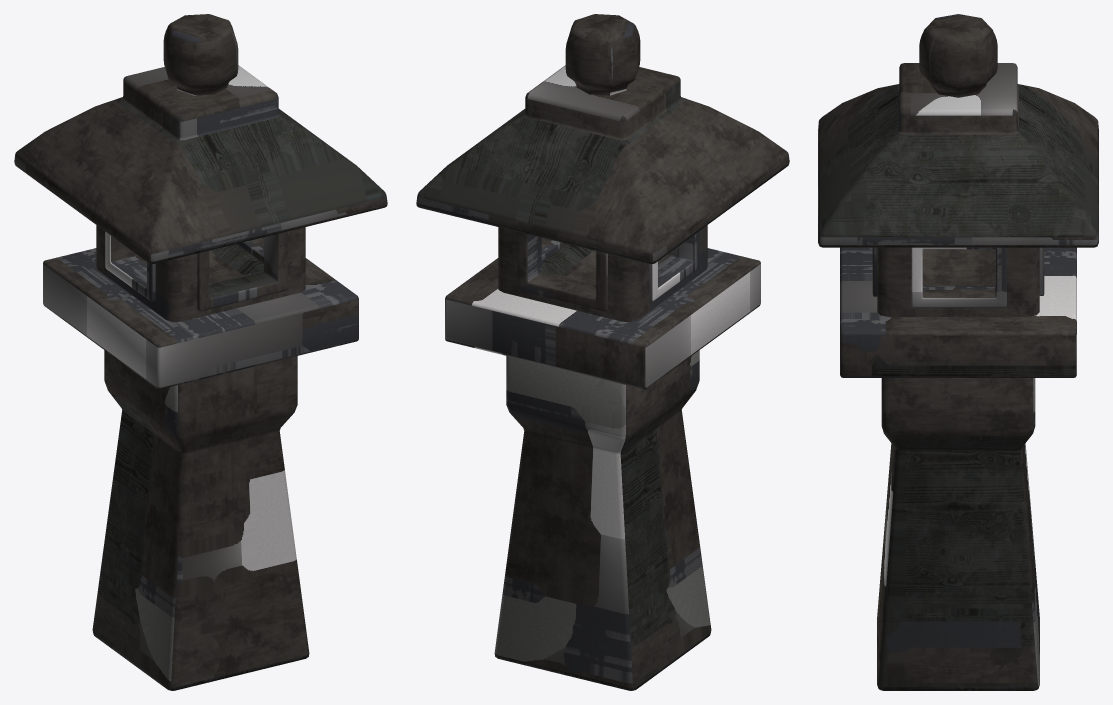
Rendered from Lantern1.fbx.
3 views of the same model, side by side, from view 1: azimuth 30°, elevation 25°; view 2: azimuth 150°, elevation 25°; view 3: azimuth 270°, elevation 25° (orthographic).
Parts seen in each view (by area): view 1: Lantern1; view 2: Lantern1; view 3: Lantern1.
Part boxes in pixels (x1,y1,x2,y2): Lantern1: (14, 14, 387, 690); Lantern1: (416, 14, 789, 690); Lantern1: (818, 14, 1098, 690).
Size of the model in its own units: 0.6063 by 1.51 by 0.6063.
